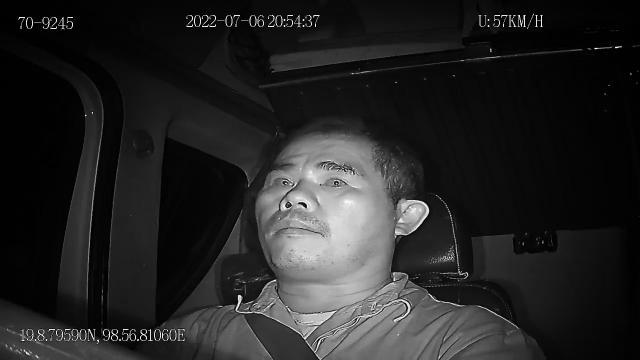SafeDriving: (314, 166, 354, 194), (262, 168, 298, 192)
Seatbelt: (217, 274, 323, 360)
